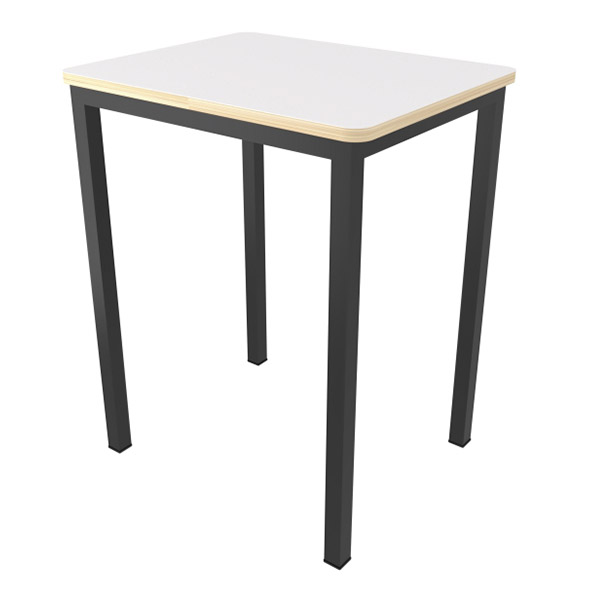m01: (62, 31, 515, 570)
